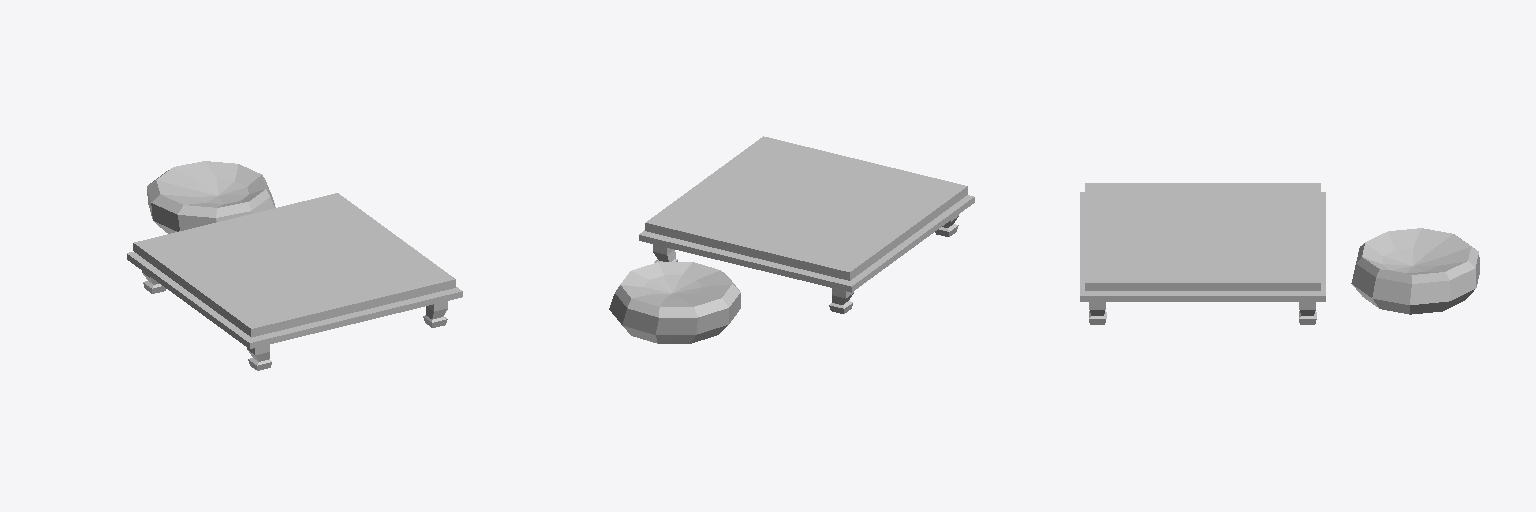
Rendered from Beddask&chair.obj.
3 renders of one model, left to right at view 1: azimuth 30°, elevation 25°; view 2: azimuth 150°, elevation 25°; view 3: azimuth 270°, elevation 25°, orthographic.
Visible parts, largest first — view 1: pCube259, pCylinder216; view 2: pCube259, pCylinder216; view 3: pCube259, pCylinder216.
Boxes of the visible parts, x1,y1,x2,y2 form: pCube259: [127, 193, 462, 370]; pCylinder216: [147, 161, 275, 233]; pCube259: [639, 136, 974, 313]; pCylinder216: [609, 262, 740, 343]; pCube259: [1080, 183, 1325, 324]; pCylinder216: [1351, 228, 1479, 314].
Size of the model in its own units: 104 by 21.78 by 170.